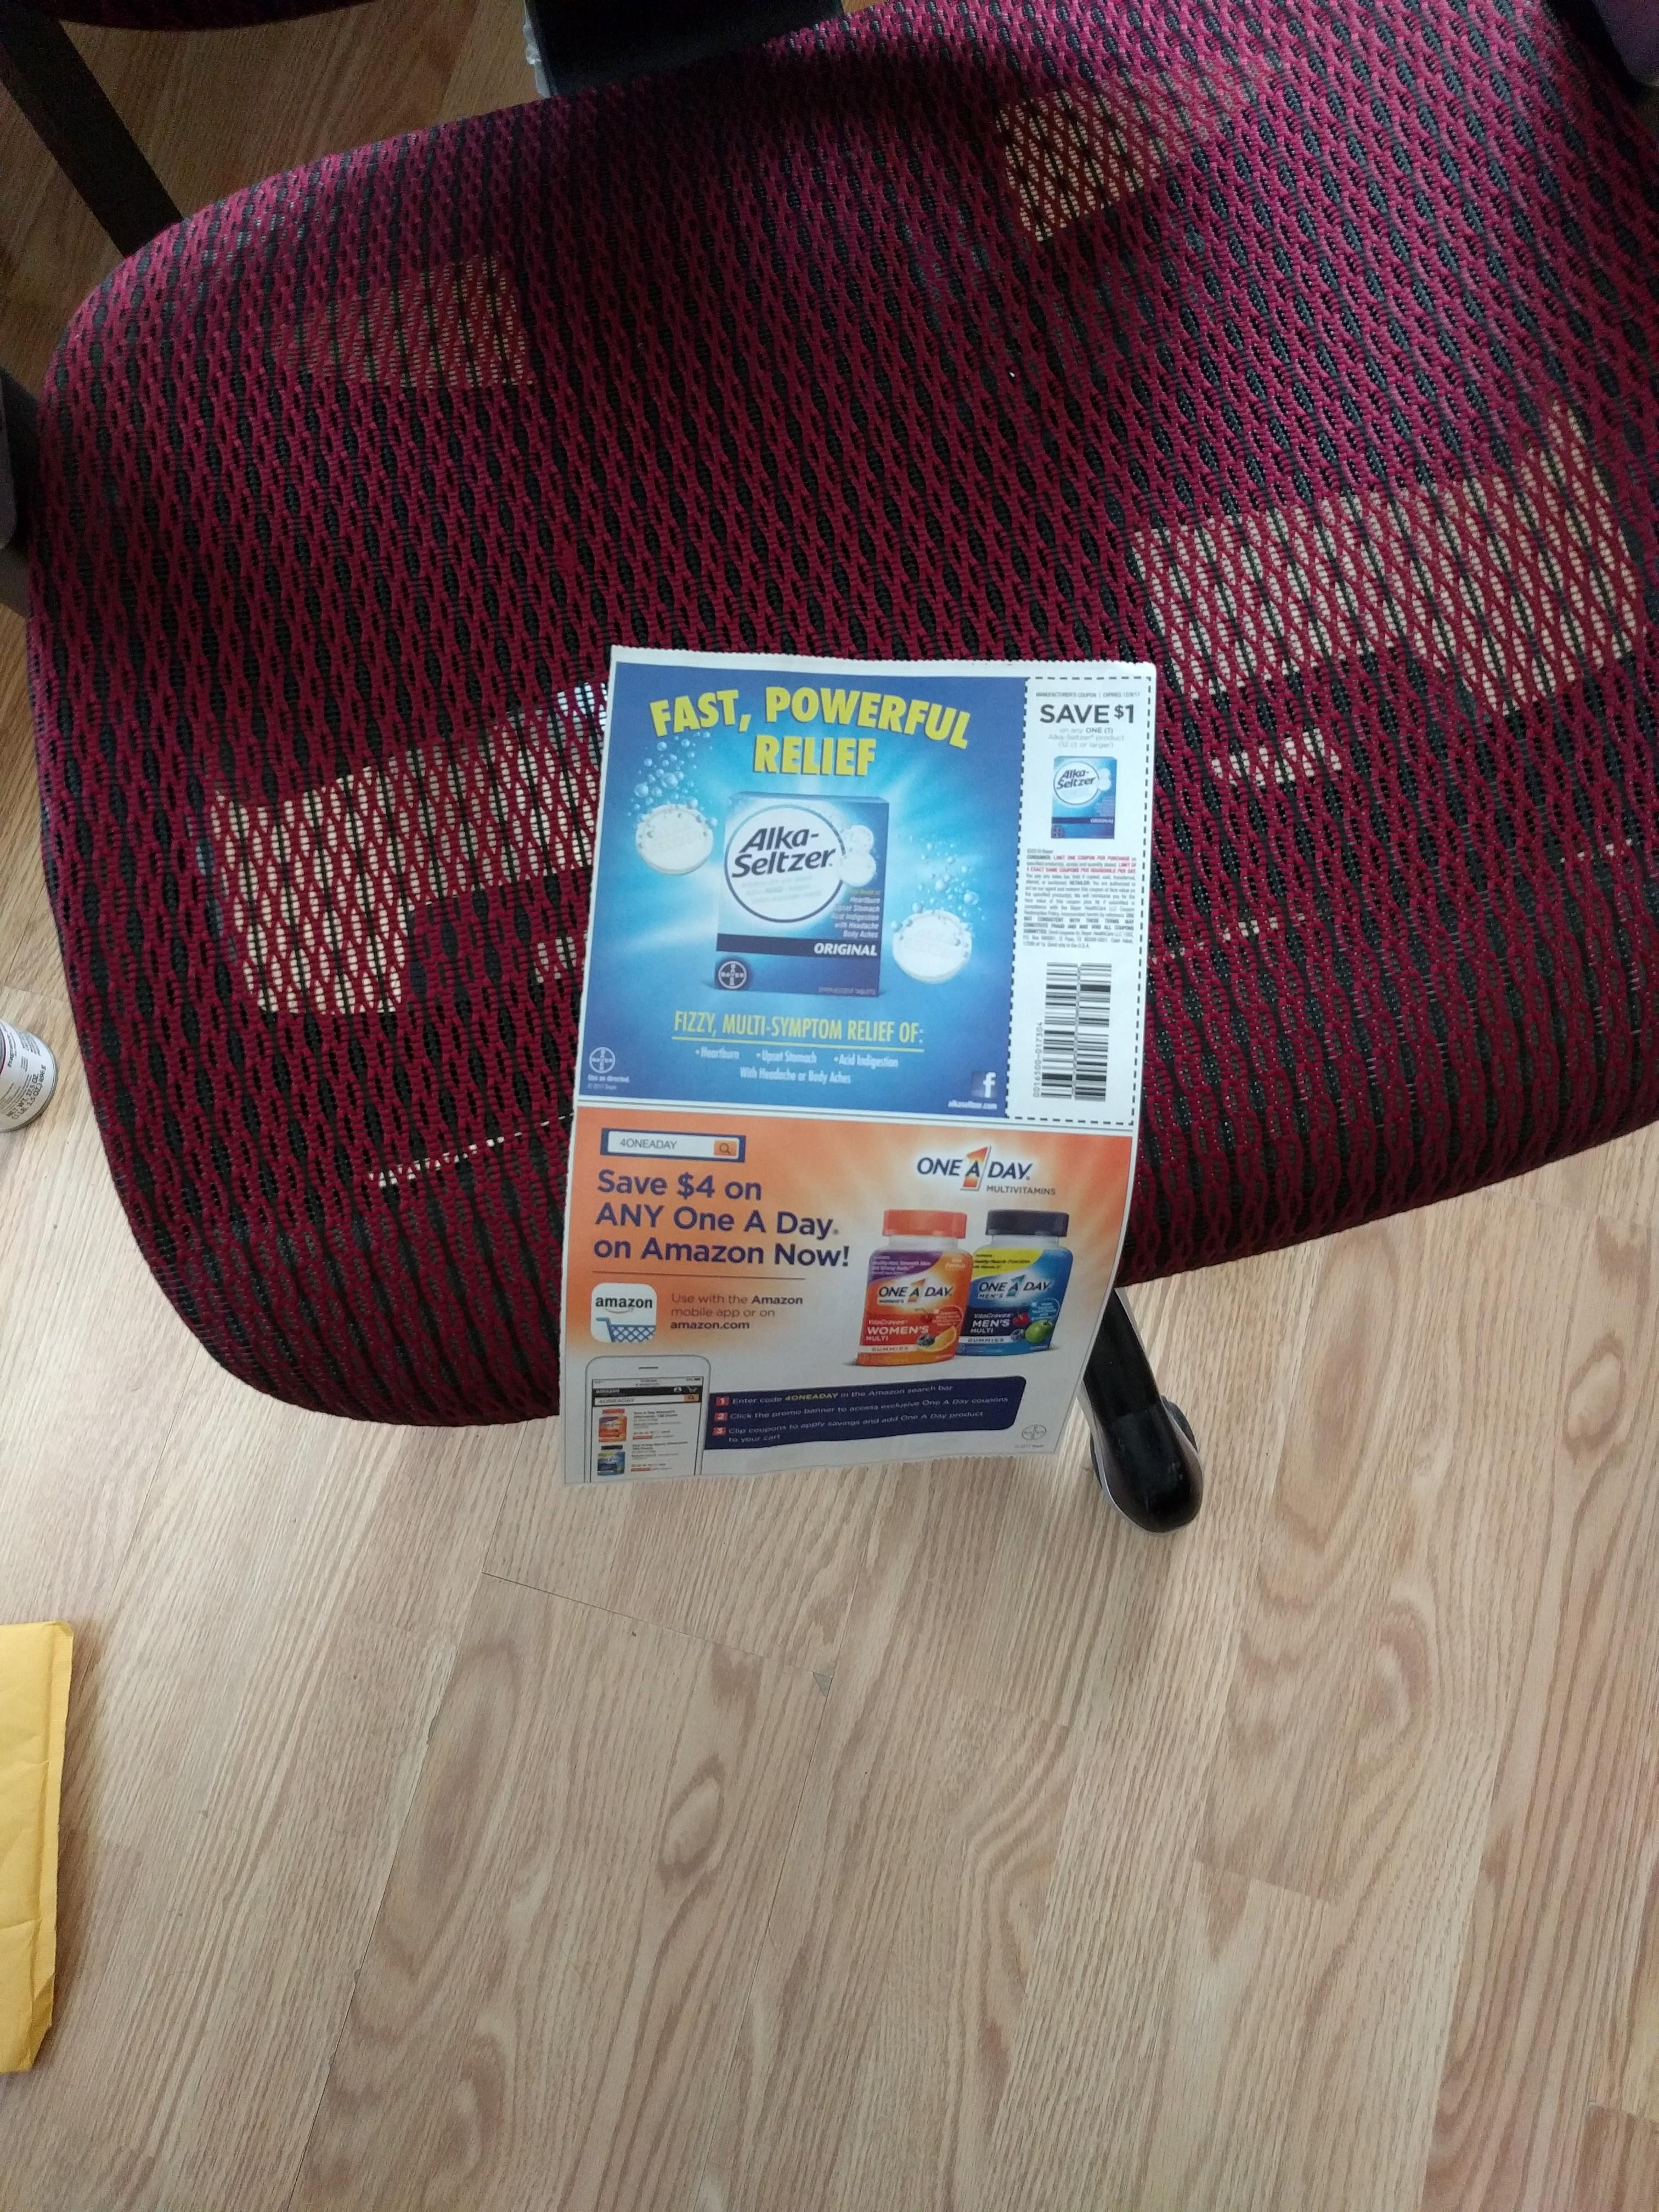paper: (335, 404, 1331, 1726)
